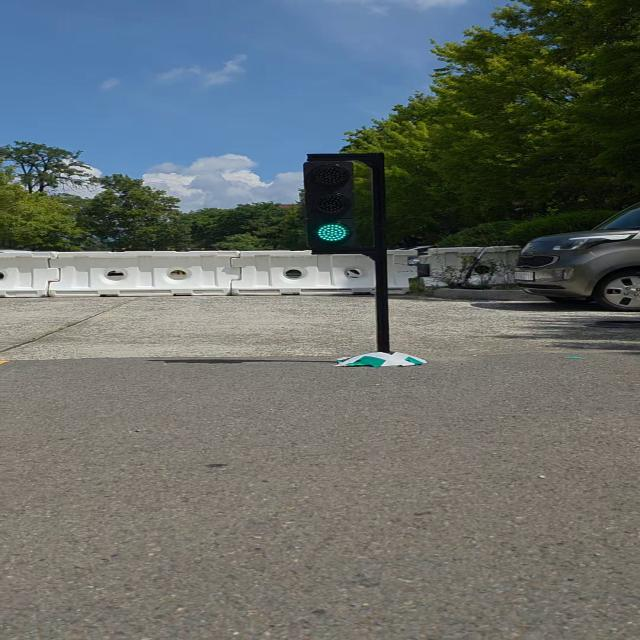green: (302, 158, 363, 254)
